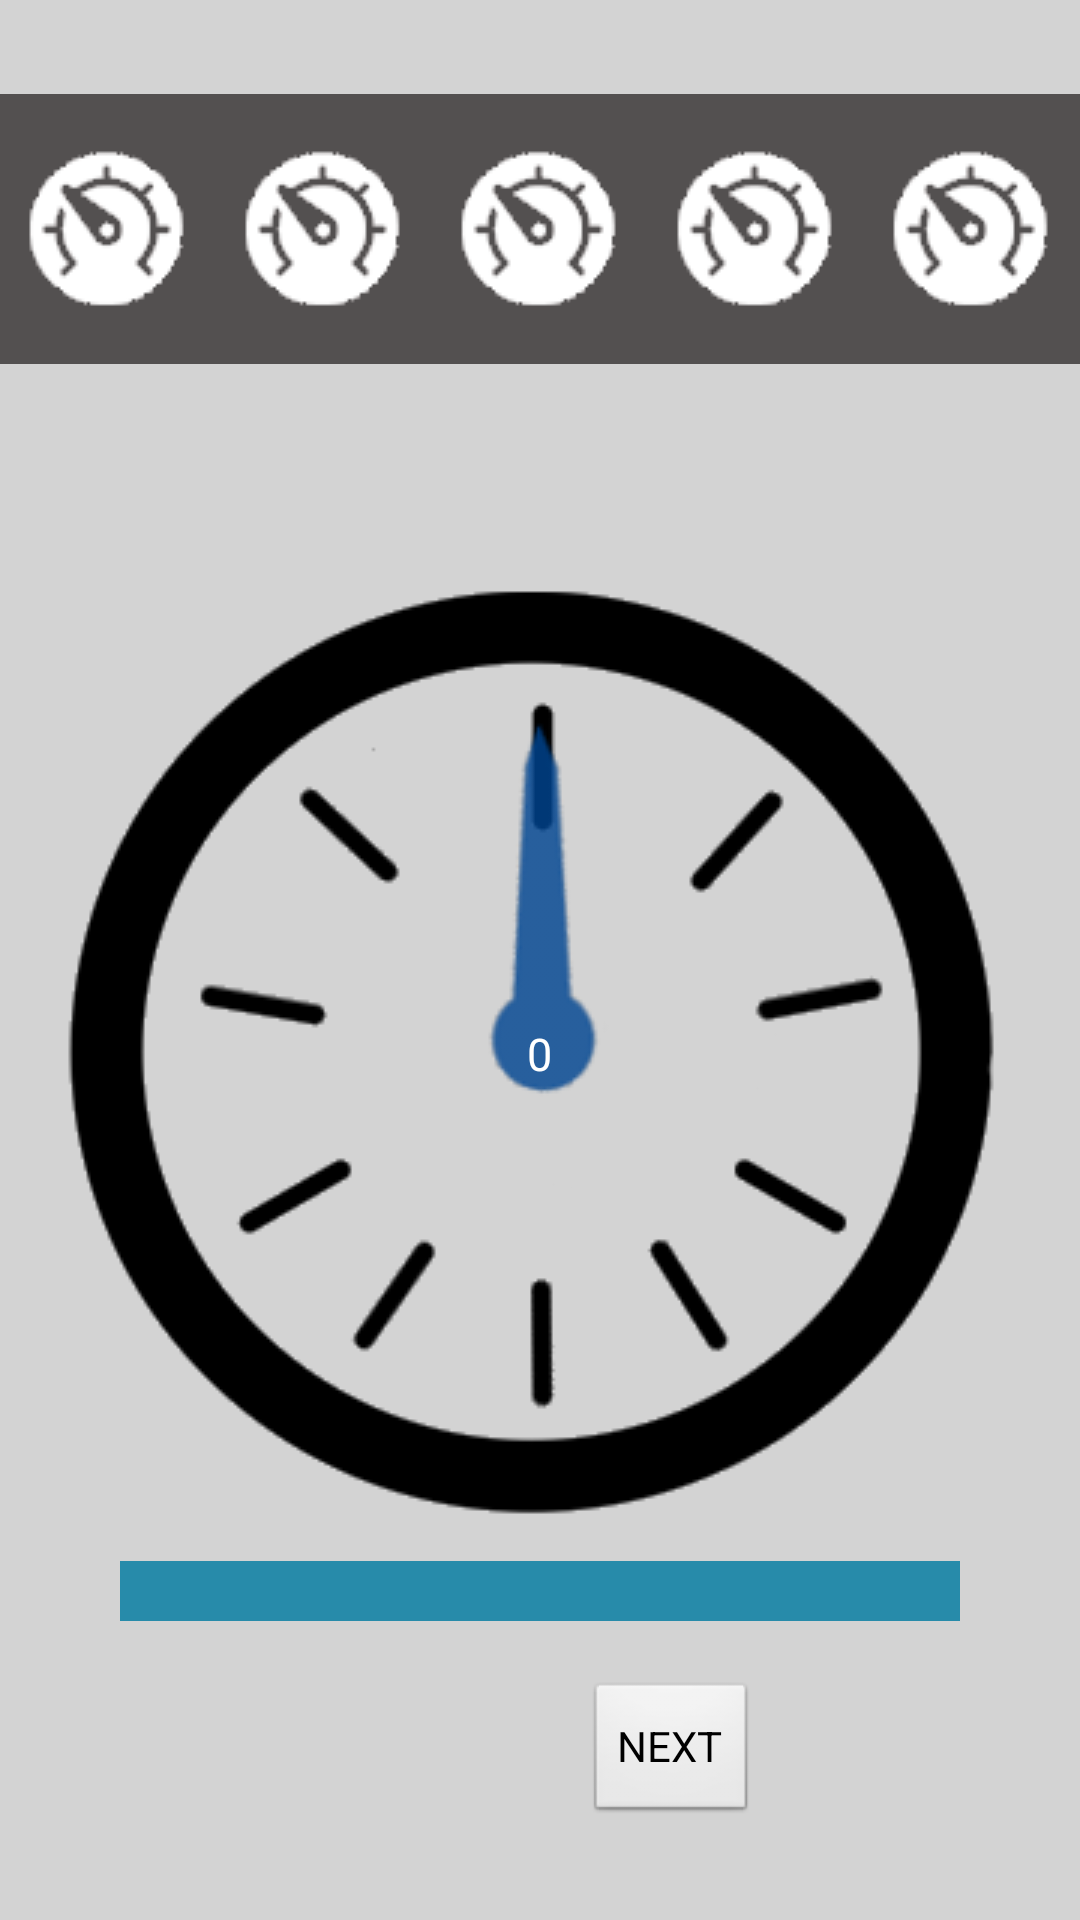

Locate icon controls on the screen. Image size 1080 × 1920, boxes as (x1, y1, x2, y2).
mini meter: (29, 151, 184, 306), (245, 151, 400, 306), (461, 151, 616, 306), (677, 151, 832, 306), (893, 151, 1048, 306)
